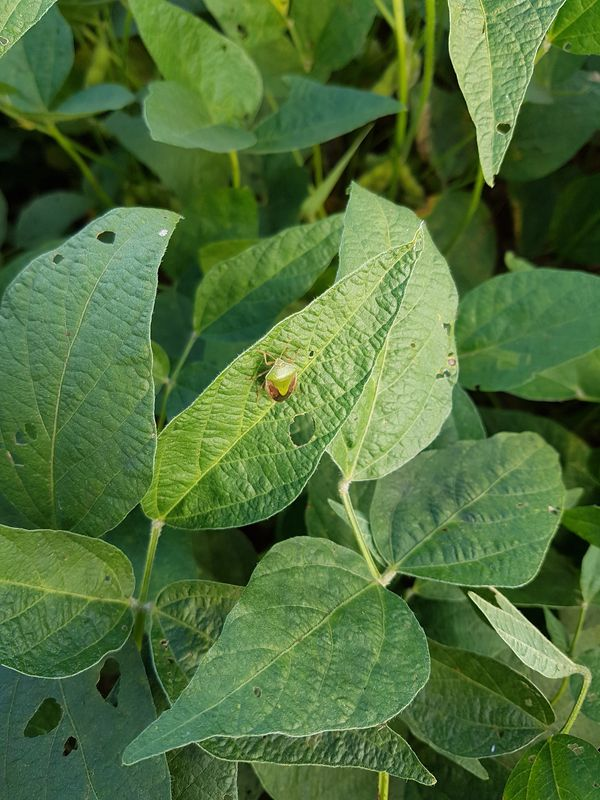Edessa_meditabunda: (247, 338, 305, 408)
